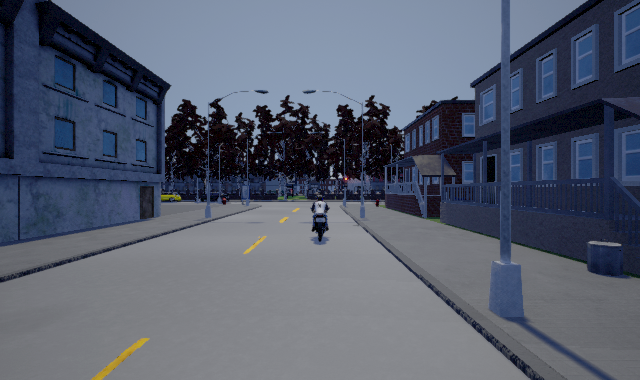motobike: (310, 196, 332, 245)
traffic_light: (344, 176, 347, 188)
